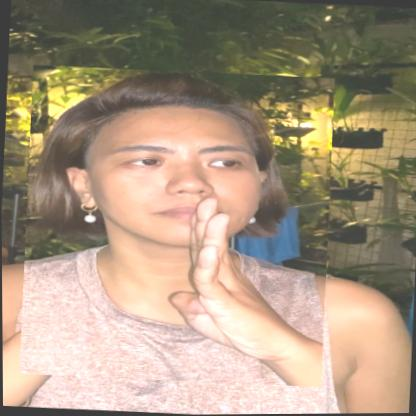Talk: (16, 63, 336, 389)
